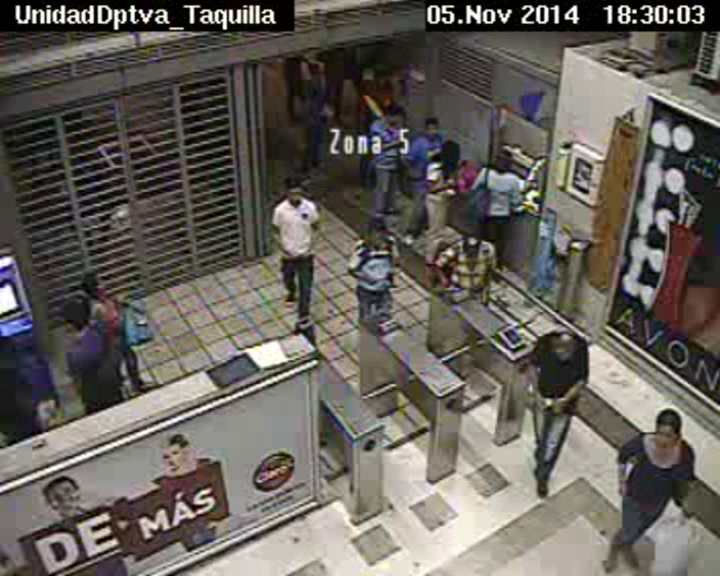person: (651, 407, 684, 446), (58, 301, 91, 334), (1, 339, 28, 379), (360, 217, 388, 249), (552, 331, 577, 362), (80, 269, 107, 297), (458, 228, 484, 257), (281, 175, 306, 204), (489, 147, 513, 177), (437, 140, 460, 166), (383, 102, 406, 126), (421, 116, 443, 138), (372, 57, 392, 80), (309, 64, 327, 82), (328, 31, 345, 49), (284, 37, 301, 53)
